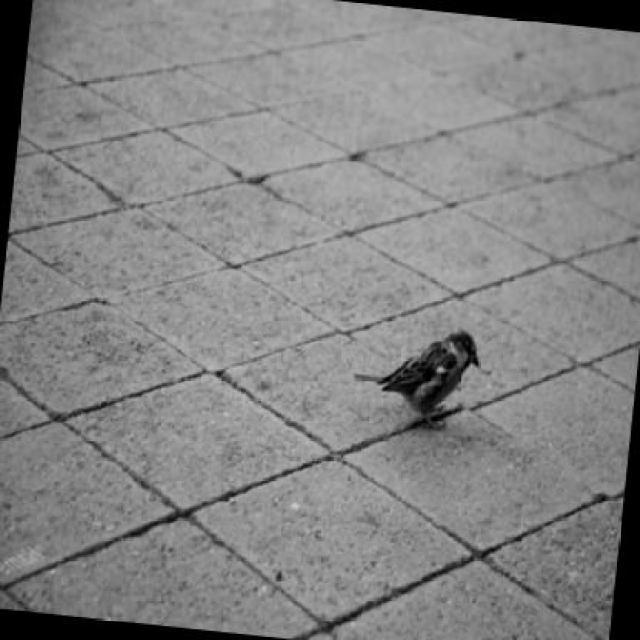Bird: (348, 326, 484, 436)
